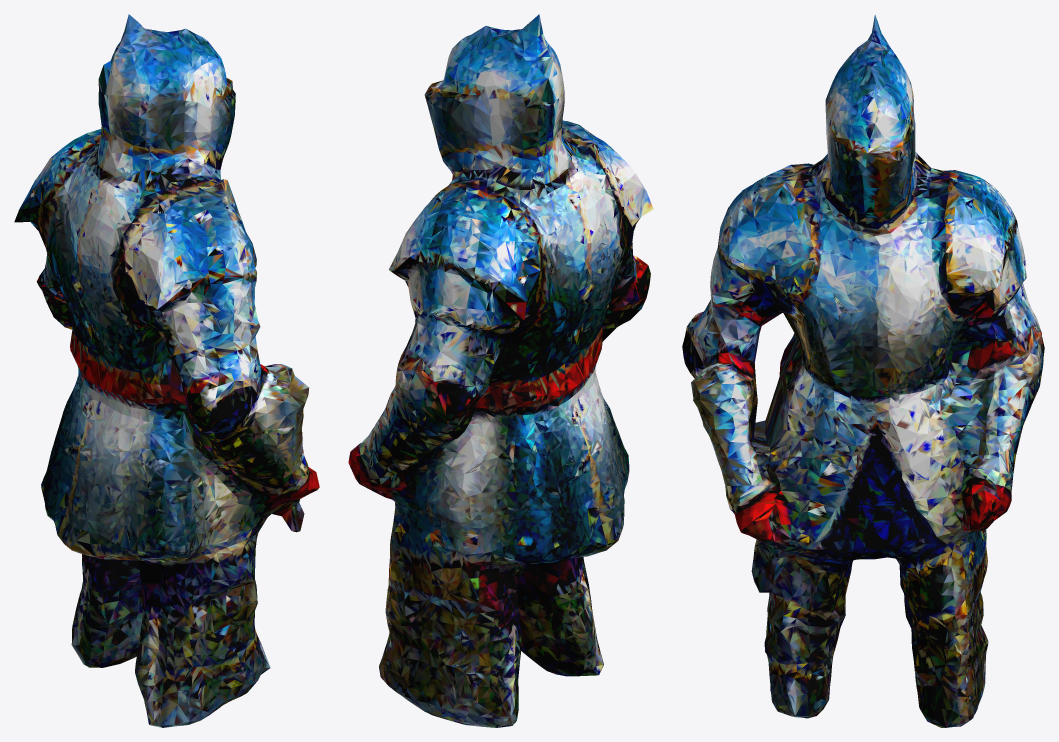
Rendered from knight-normal.glb.
The picture shows the model from 3 angles, left to right: view 1: azimuth 30°, elevation 25°; view 2: azimuth 150°, elevation 25°; view 3: azimuth 270°, elevation 25°; orthographic projection.
Parts seen in each view (by area): view 1: extracted_mesh; view 2: extracted_mesh; view 3: extracted_mesh.
Part boxes in pixels (x1,y1,x2,y2): extracted_mesh: (14, 14, 319, 727); extracted_mesh: (348, 14, 653, 727); extracted_mesh: (682, 14, 1044, 727).
Bounding box in the file's own units: 0.382 × 1.21 × 0.5812.
Materials: 1 (1 with a texture image).
